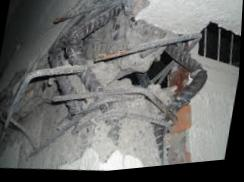damage: (0, 0, 209, 171)
